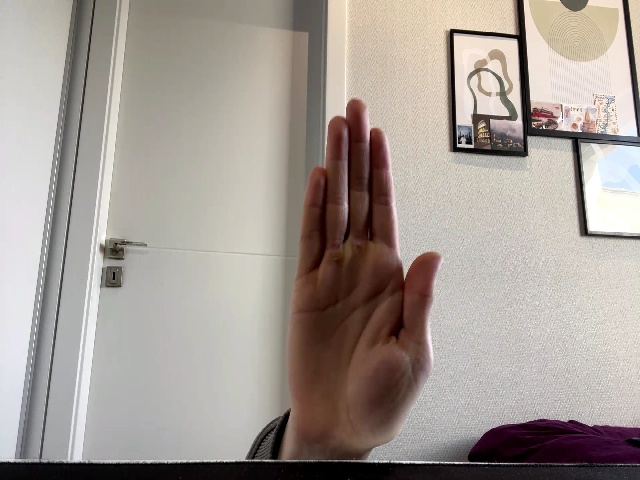B: (288, 99, 442, 449)
